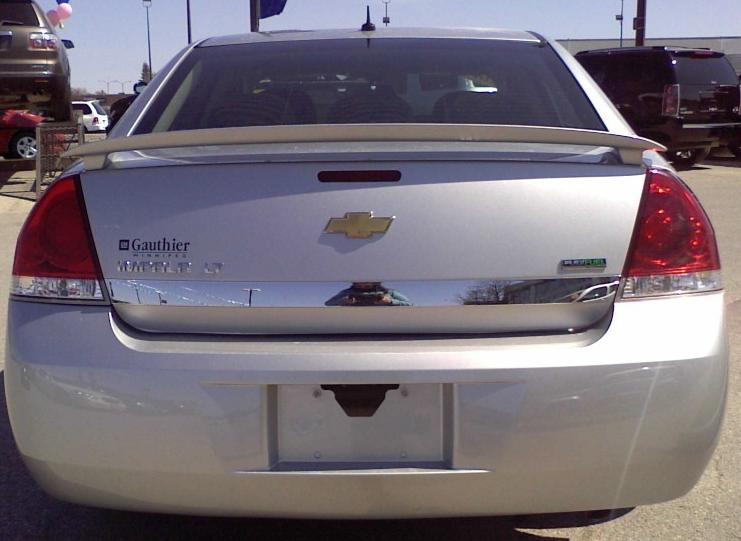back_view: (5, 159, 733, 520)
backlight: (610, 160, 733, 311)
